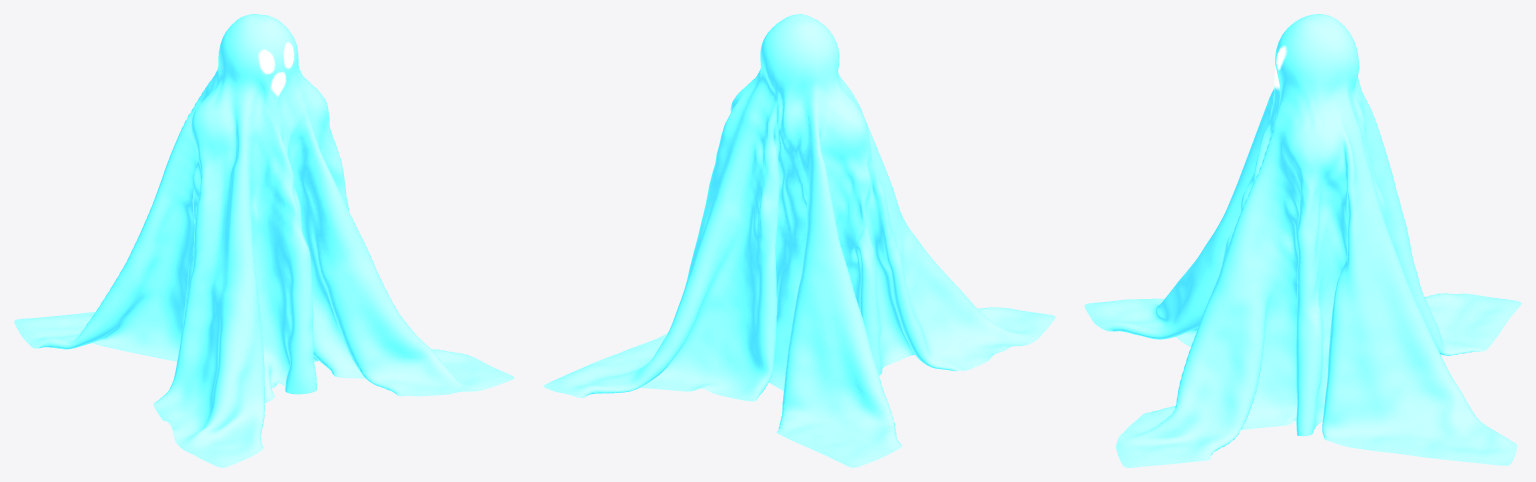
Rendered from Ghost.fbx.
The picture shows the model from 3 angles, left to right: view 1: azimuth 30°, elevation 25°; view 2: azimuth 150°, elevation 25°; view 3: azimuth 270°, elevation 25°; orthographic projection. The views are drawn at different scales.
Parts seen in each view (by area): view 1: Ghost; view 2: Ghost; view 3: Ghost.
Boxes of the visible parts, left/top/right/bottom form: Ghost: left=14, top=14, right=514, bottom=467; Ghost: left=543, top=14, right=1055, bottom=467; Ghost: left=1084, top=14, right=1521, bottom=467.
Size of the model in its own units: 188 by 183 by 200.
